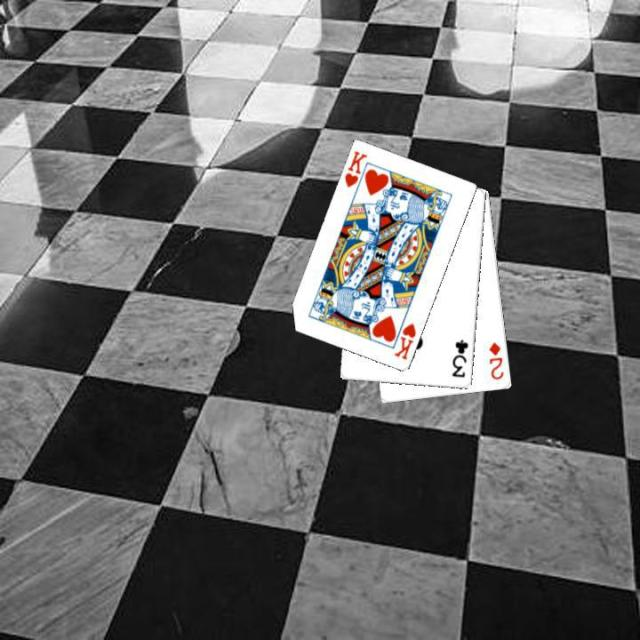2D: (485, 339, 506, 381)
3C: (448, 336, 470, 380)
KH: (340, 148, 369, 190), (390, 319, 418, 362)
